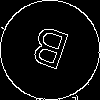B: (25, 25, 72, 79)
